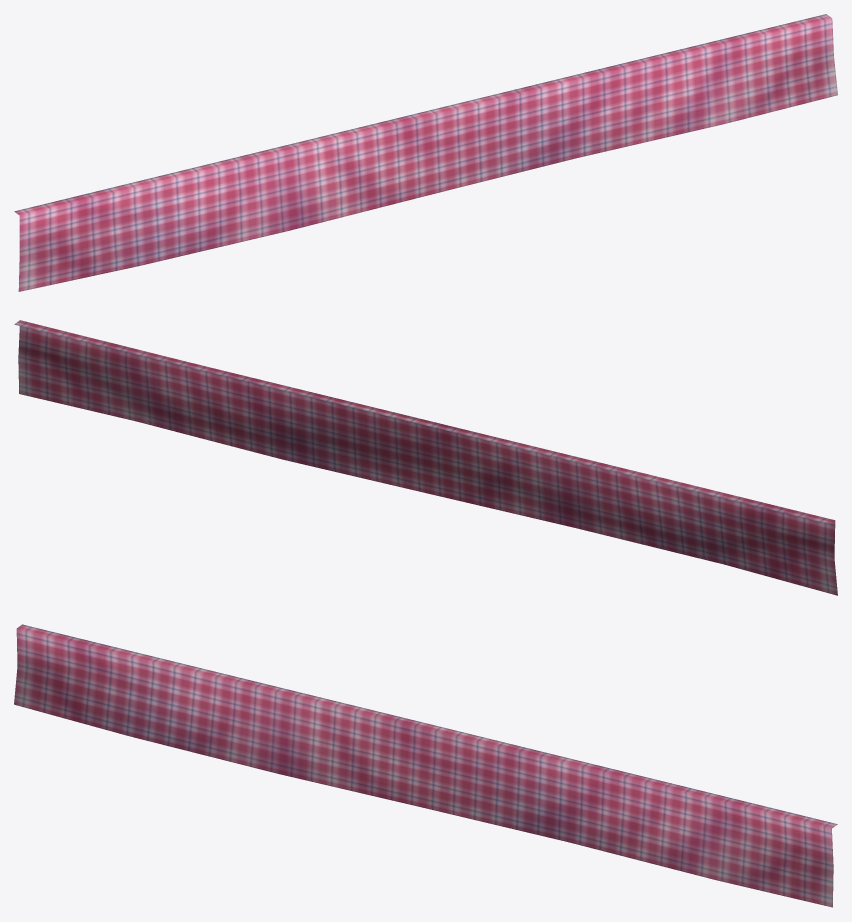
The model's file is jsf_BlindfoldCloth_2P_s04_02.fbx.
The picture shows the model from 3 angles, top to bottom: view 1: azimuth 30°, elevation 25°; view 2: azimuth 150°, elevation 25°; view 3: azimuth 330°, elevation 25°; orthographic projection.
Parts seen in each view (by area): view 1: jsf_BlindfoldCloth_2P_s04_02; view 2: jsf_BlindfoldCloth_2P_s04_02; view 3: jsf_BlindfoldCloth_2P_s04_02.
Boxes of the visible parts, <box> form: jsf_BlindfoldCloth_2P_s04_02: <box>14,14,837,291</box>; jsf_BlindfoldCloth_2P_s04_02: <box>14,320,837,595</box>; jsf_BlindfoldCloth_2P_s04_02: <box>14,624,837,907</box>.
Bounding box in the file's own units: 337 × 30 × 7.76.
